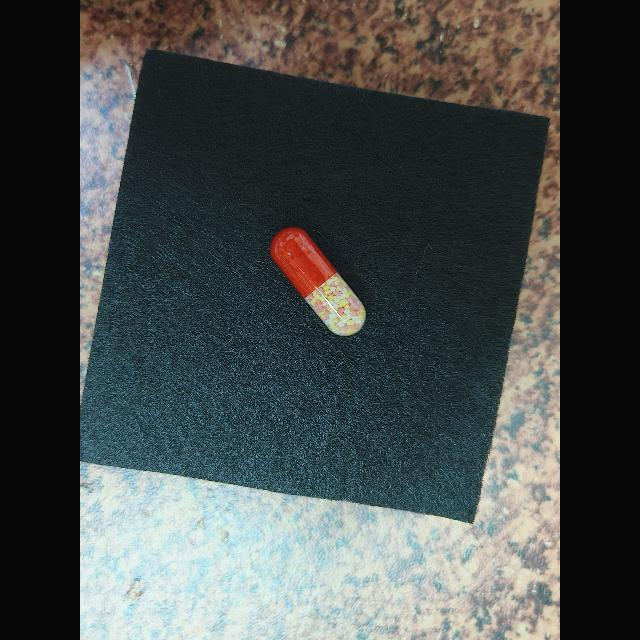Intact Capsule: (270, 227, 366, 337)
